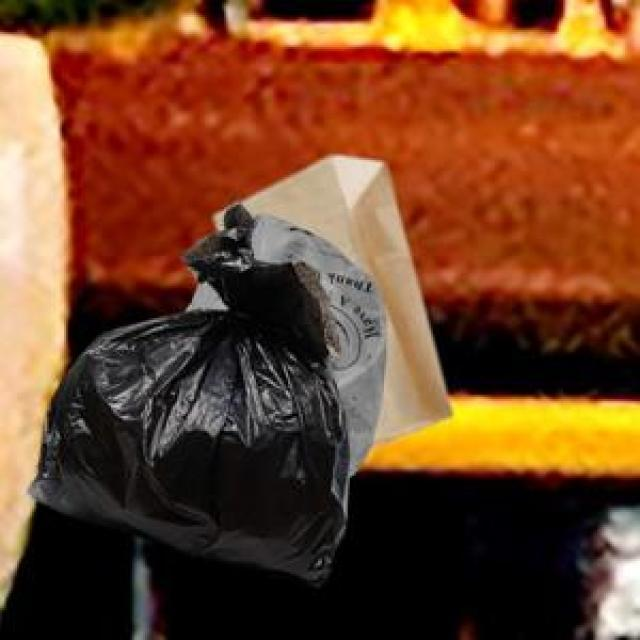miscellaneous trash: (24, 196, 346, 582)
paper: (211, 152, 448, 444)
